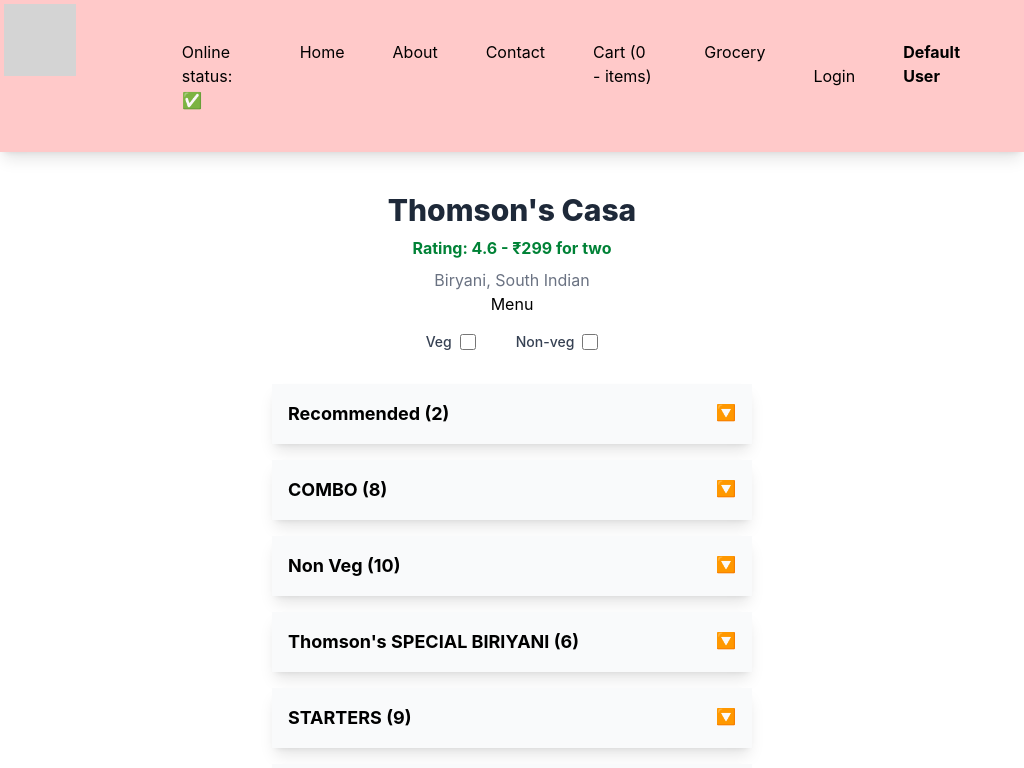
Test: Add & Remove items from Cart - Integration test › Should show cart item number as 1 when 1 item added
The image size is (1024, 768).
Click the text "Recommended (2)" at (369, 414), box [288,400,449,428]
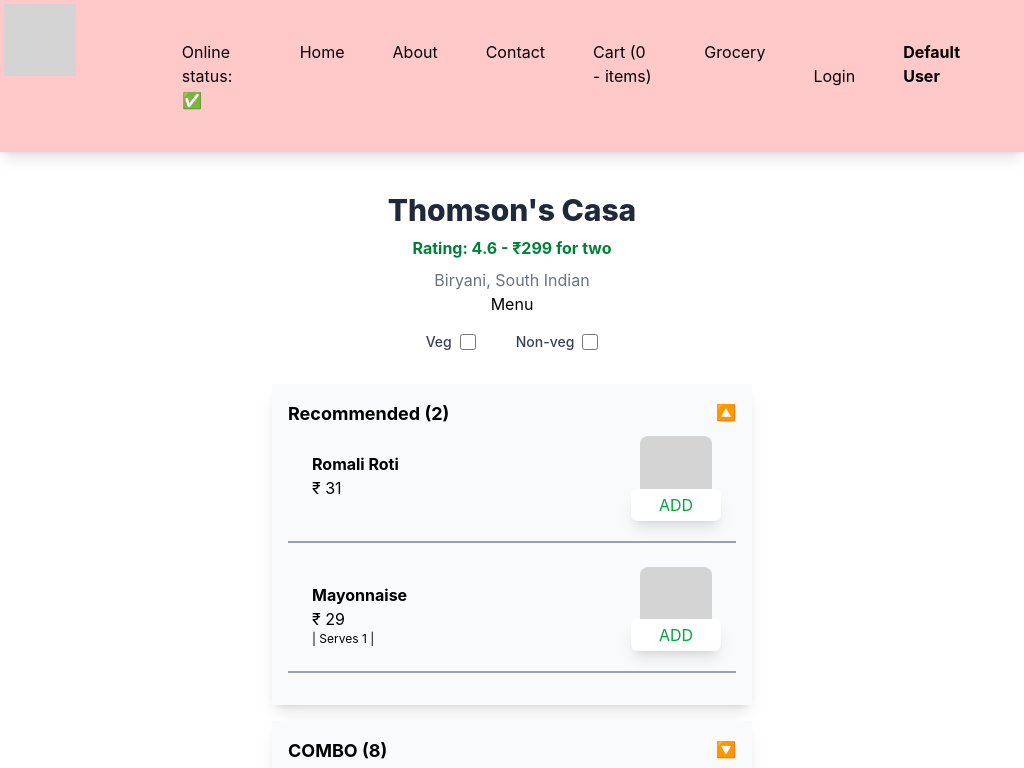
Click the button "ADD" in the row of "31" at (676, 505), box [631,489,721,521]
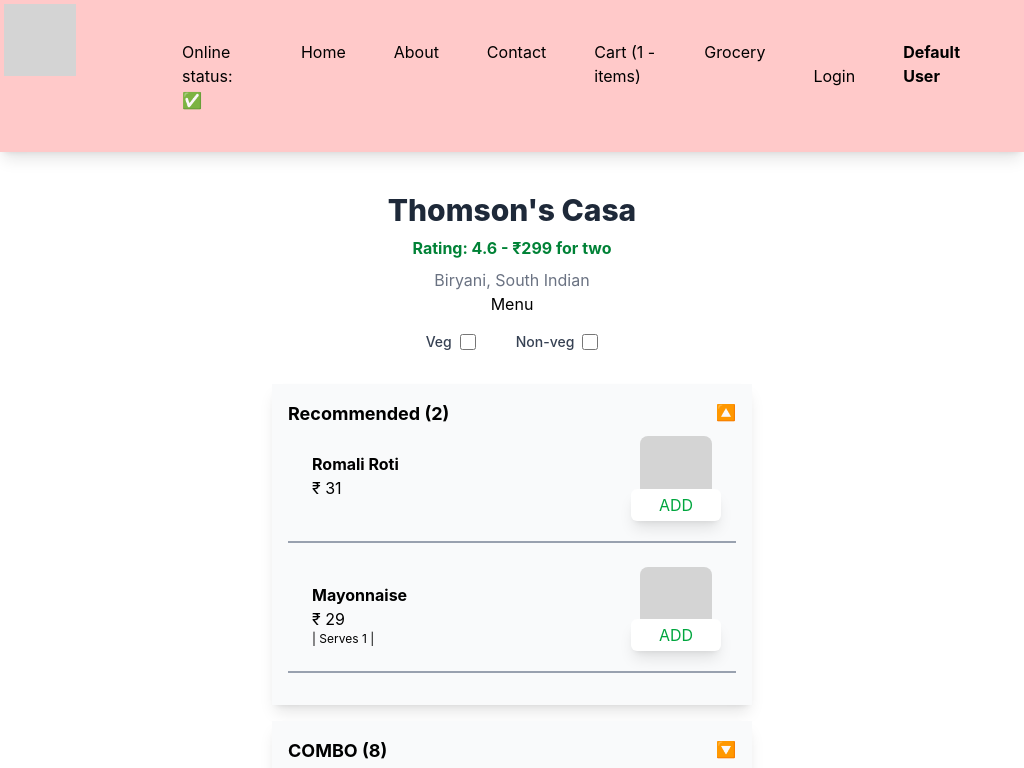
Expected: the link "Cart (1 - items)" is shown, [594,42,655,86]
